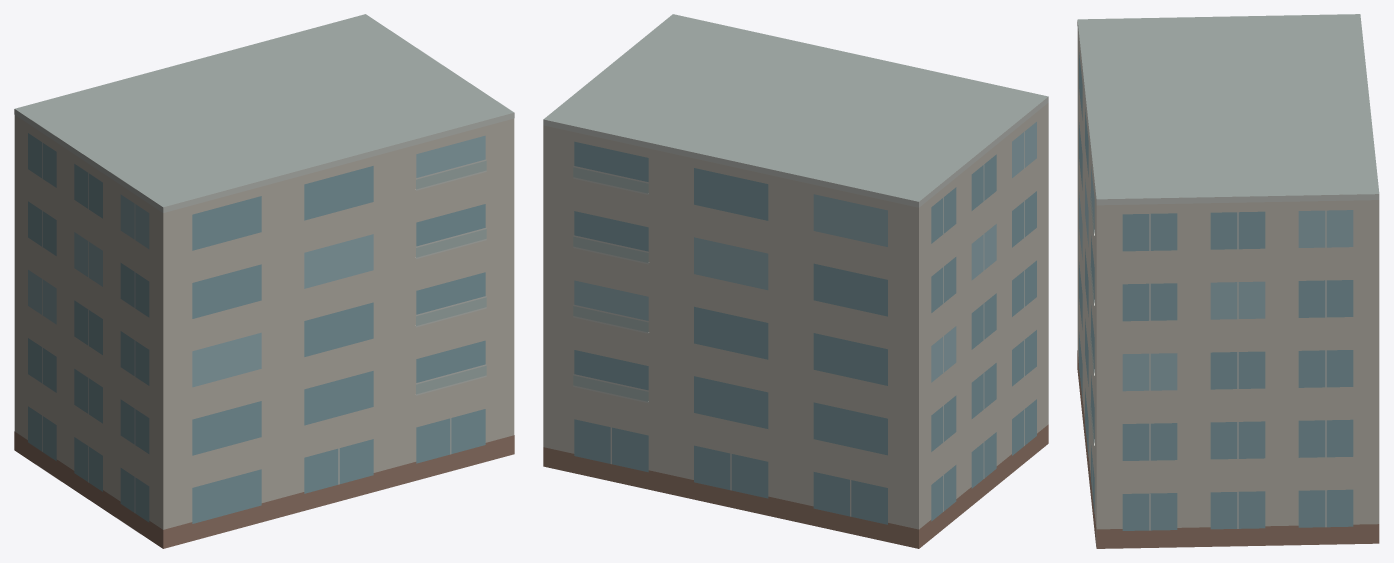
The model's file is survey-upis-33001064.glb.
3 views of the same model, side by side, from view 1: azimuth 30°, elevation 25°; view 2: azimuth 150°, elevation 25°; view 3: azimuth 270°, elevation 25° (orthographic). The views are drawn at different scales.
Parts seen in each view (by area): view 1: survey-upis-33001064.tmp; view 2: survey-upis-33001064.tmp; view 3: survey-upis-33001064.tmp.
Part boxes in pixels (x1=…): survey-upis-33001064.tmp: x1=14, y1=14, x2=514, y2=548; survey-upis-33001064.tmp: x1=543, y1=14, x2=1048, y2=548; survey-upis-33001064.tmp: x1=1077, y1=14, x2=1379, y2=548.
Bounding box in the file's own units: 16.27 × 14.3 × 11.2.
